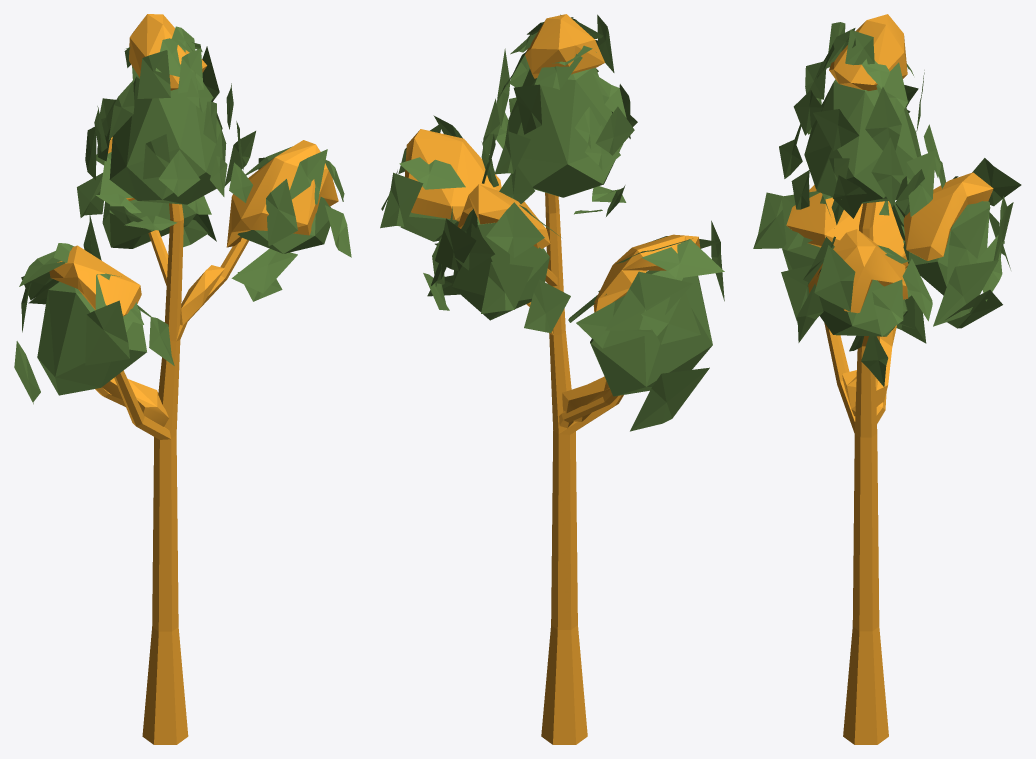
File: SM_Tree_Beech_Sapling_A_Snow.fbx
3 views of the same model, side by side, from view 1: azimuth 30°, elevation 25°; view 2: azimuth 150°, elevation 25°; view 3: azimuth 270°, elevation 25° (orthographic).
Parts seen in each view (by area): view 1: tree-beech-sapling-a-snow; view 2: tree-beech-sapling-a-snow; view 3: tree-beech-sapling-a-snow.
Part boxes in pixels (bbox=[...]): tree-beech-sapling-a-snow: bbox=[14, 14, 351, 744]; tree-beech-sapling-a-snow: bbox=[380, 14, 724, 744]; tree-beech-sapling-a-snow: bbox=[753, 14, 1021, 744].
Size of the model in its own units: 1.12 by 2.36 by 0.8.
